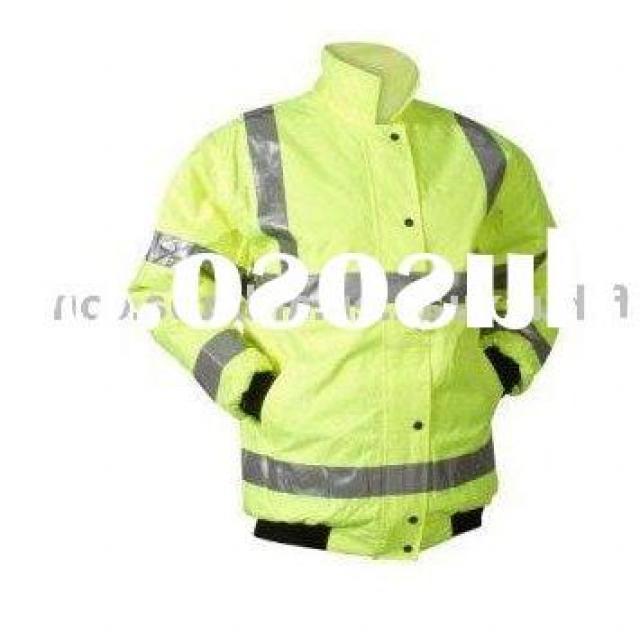Reflective-Jacket: (94, 30, 586, 584)
